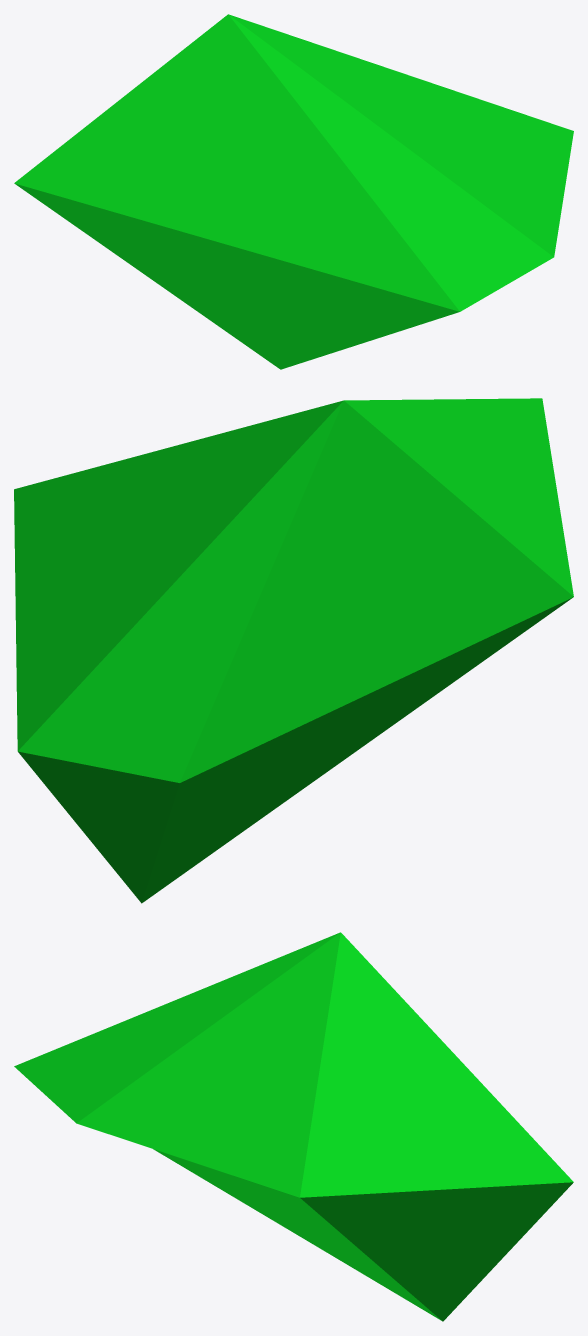
3 views of the same model, one above another, from view 1: azimuth 30°, elevation 25°; view 2: azimuth 150°, elevation 25°; view 3: azimuth 270°, elevation 25° (orthographic). The views are drawn at different scales.
Visible parts, largest first — view 1: Cube; view 2: Cube; view 3: Cube.
Part boxes in pixels (x1=…): Cube: x1=14, y1=14, x2=573, y2=369; Cube: x1=14, y1=398, x2=573, y2=903; Cube: x1=14, y1=932, x2=573, y2=1321.
Bounding box in the file's own units: 1.01 × 1.16 × 0.7842.
